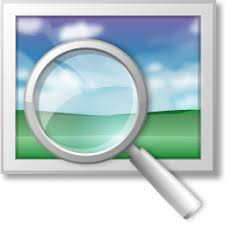searchIcon: (20, 33, 205, 221)
